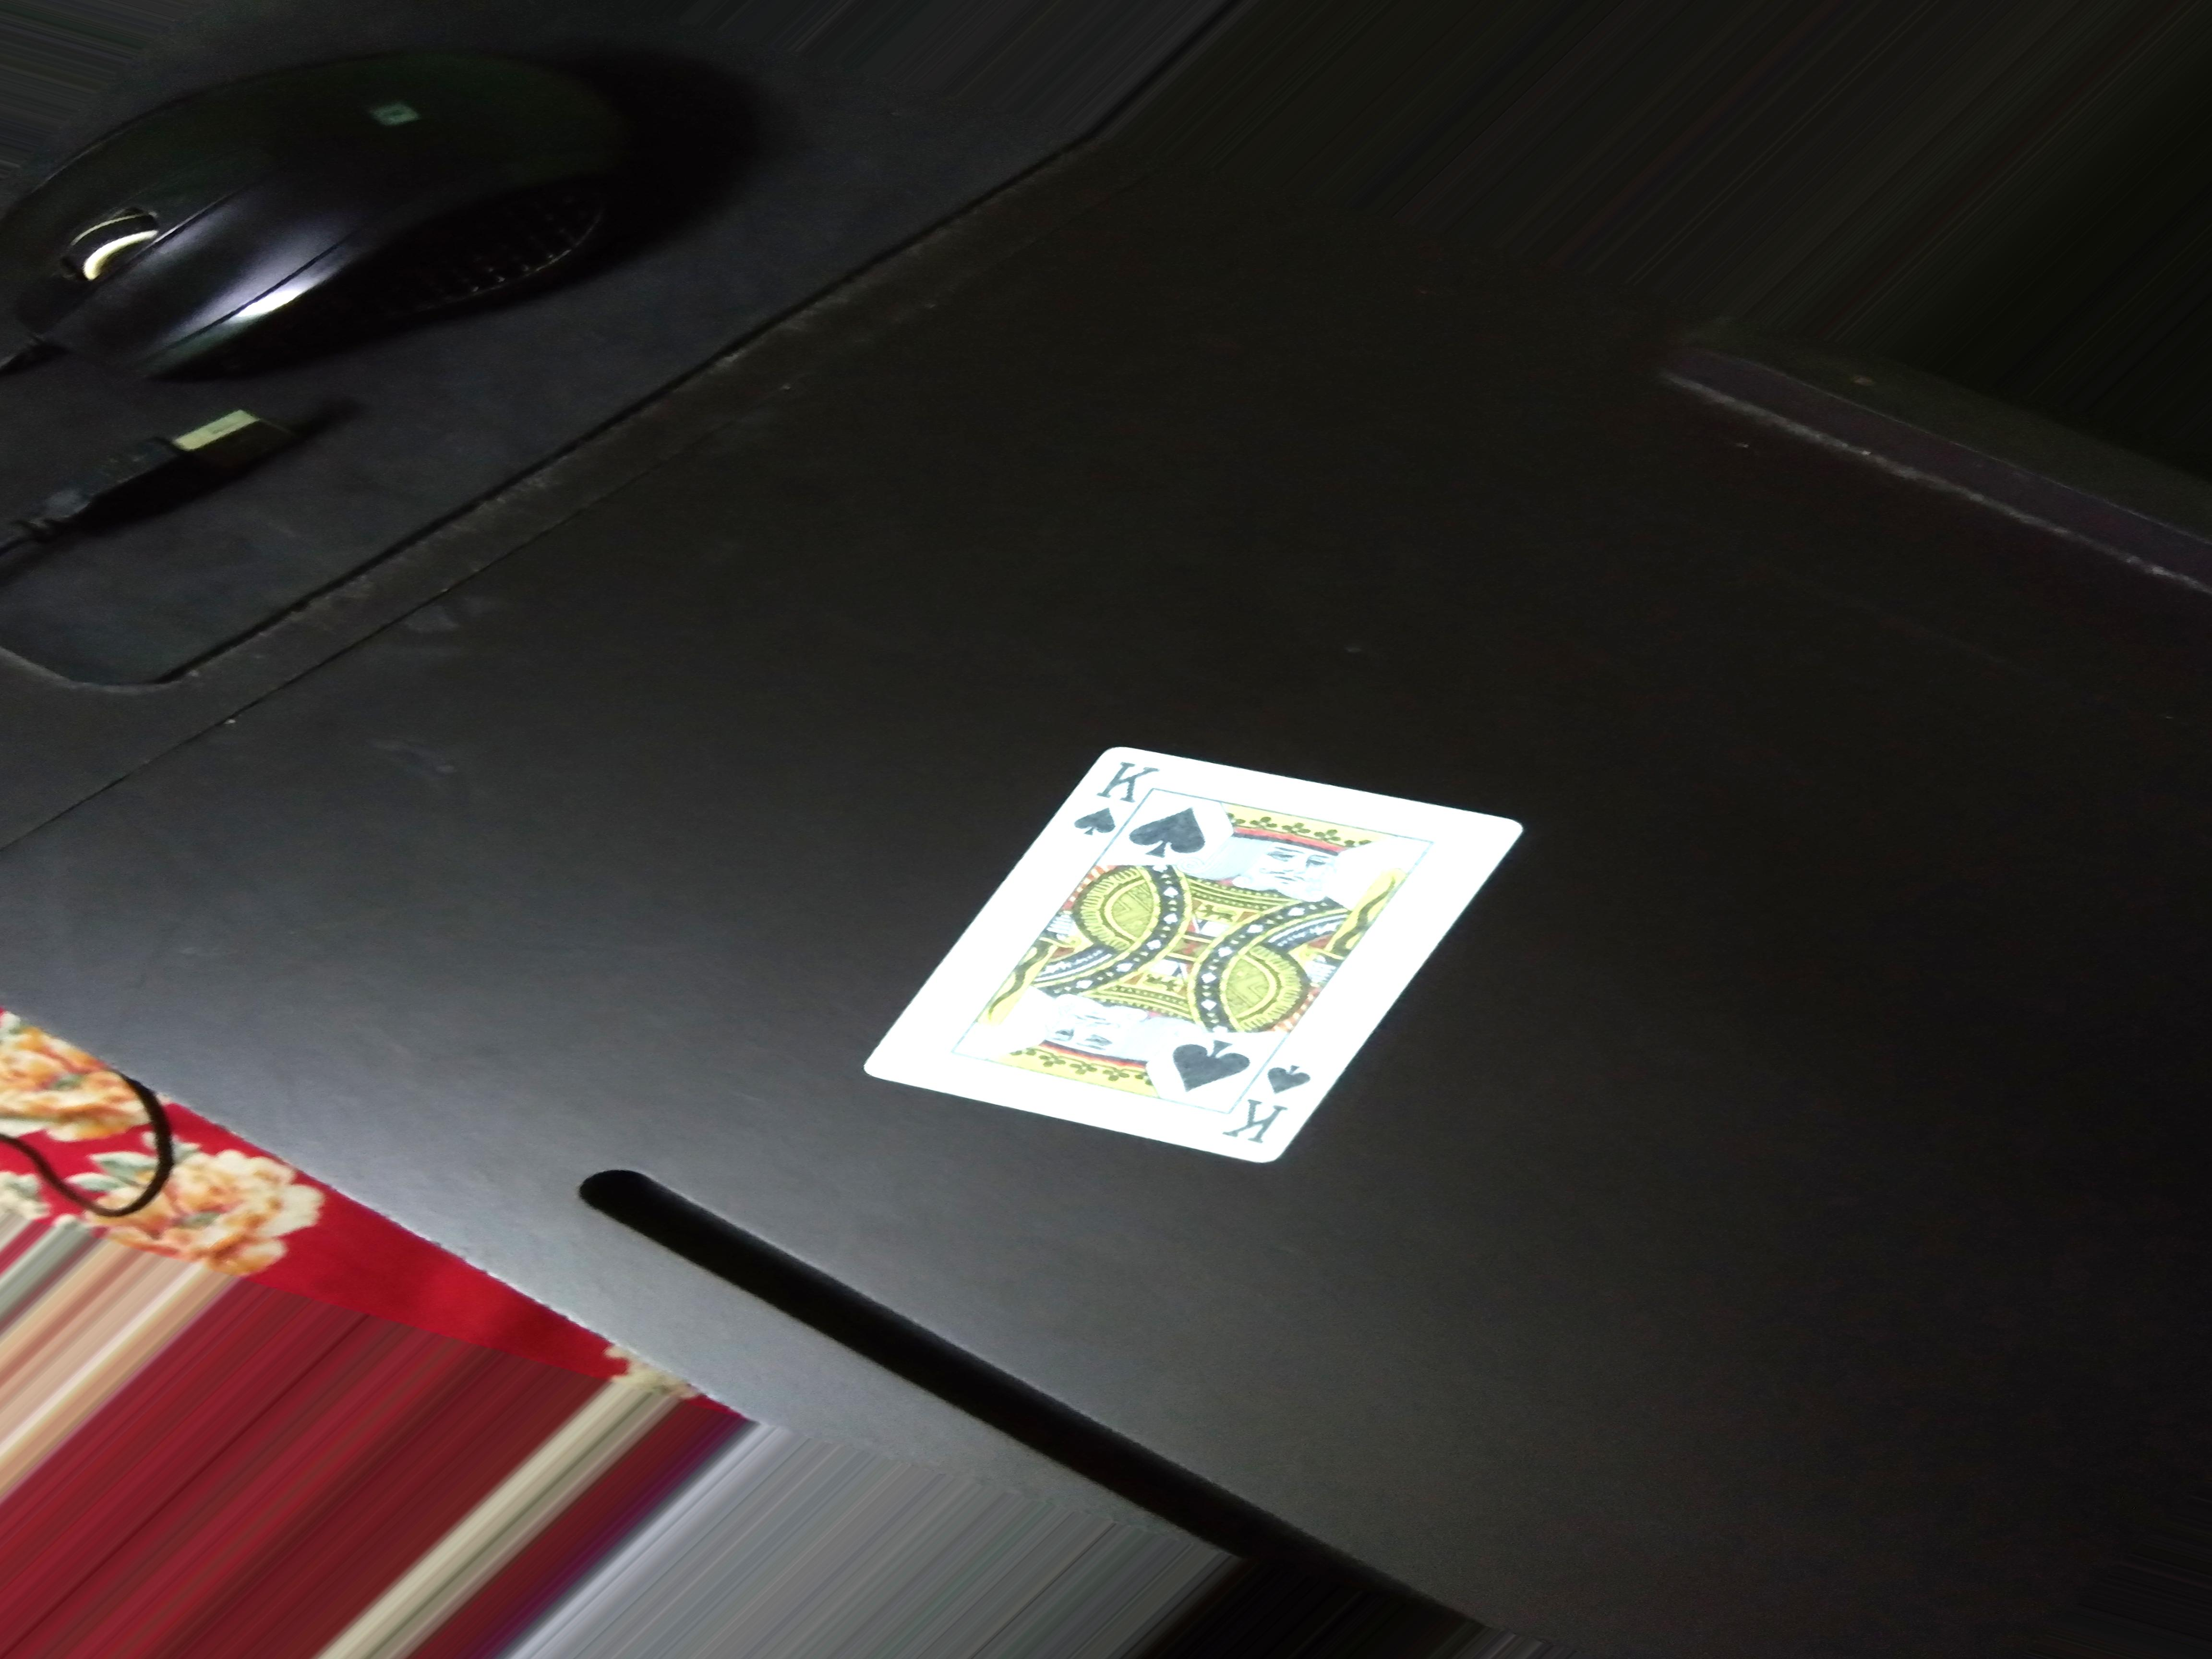KS: (1073, 748, 1155, 836)
